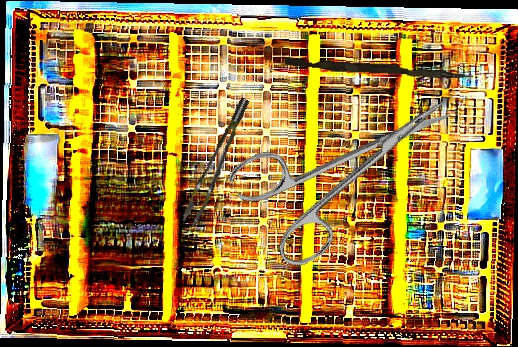Iris Scissors: (225, 60, 479, 276)
Pusher: (284, 57, 474, 80)
Tissue Forceps: (170, 96, 266, 228)
